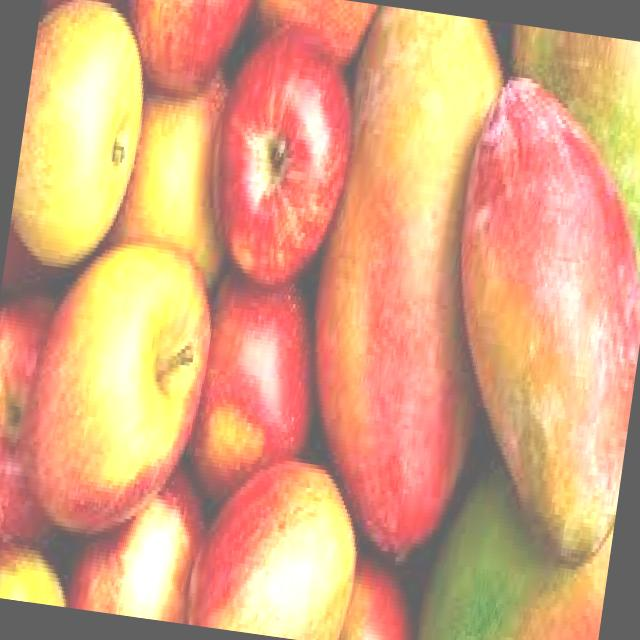Apple: (14, 230, 222, 547), (196, 13, 362, 293), (6, 0, 158, 272), (0, 284, 77, 575)
Mango: (279, 2, 532, 564), (421, 72, 640, 559), (182, 447, 368, 640)
